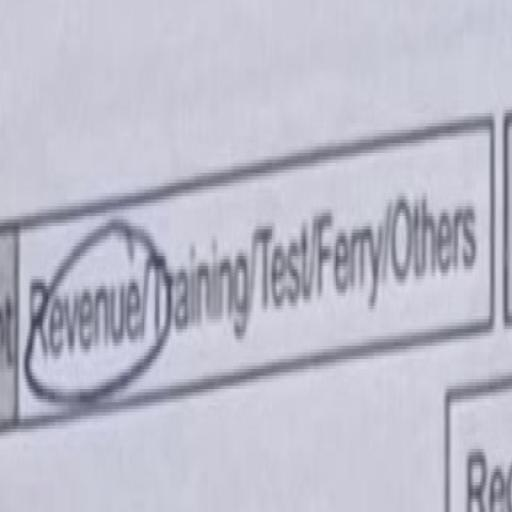check: (23, 169, 144, 452)
